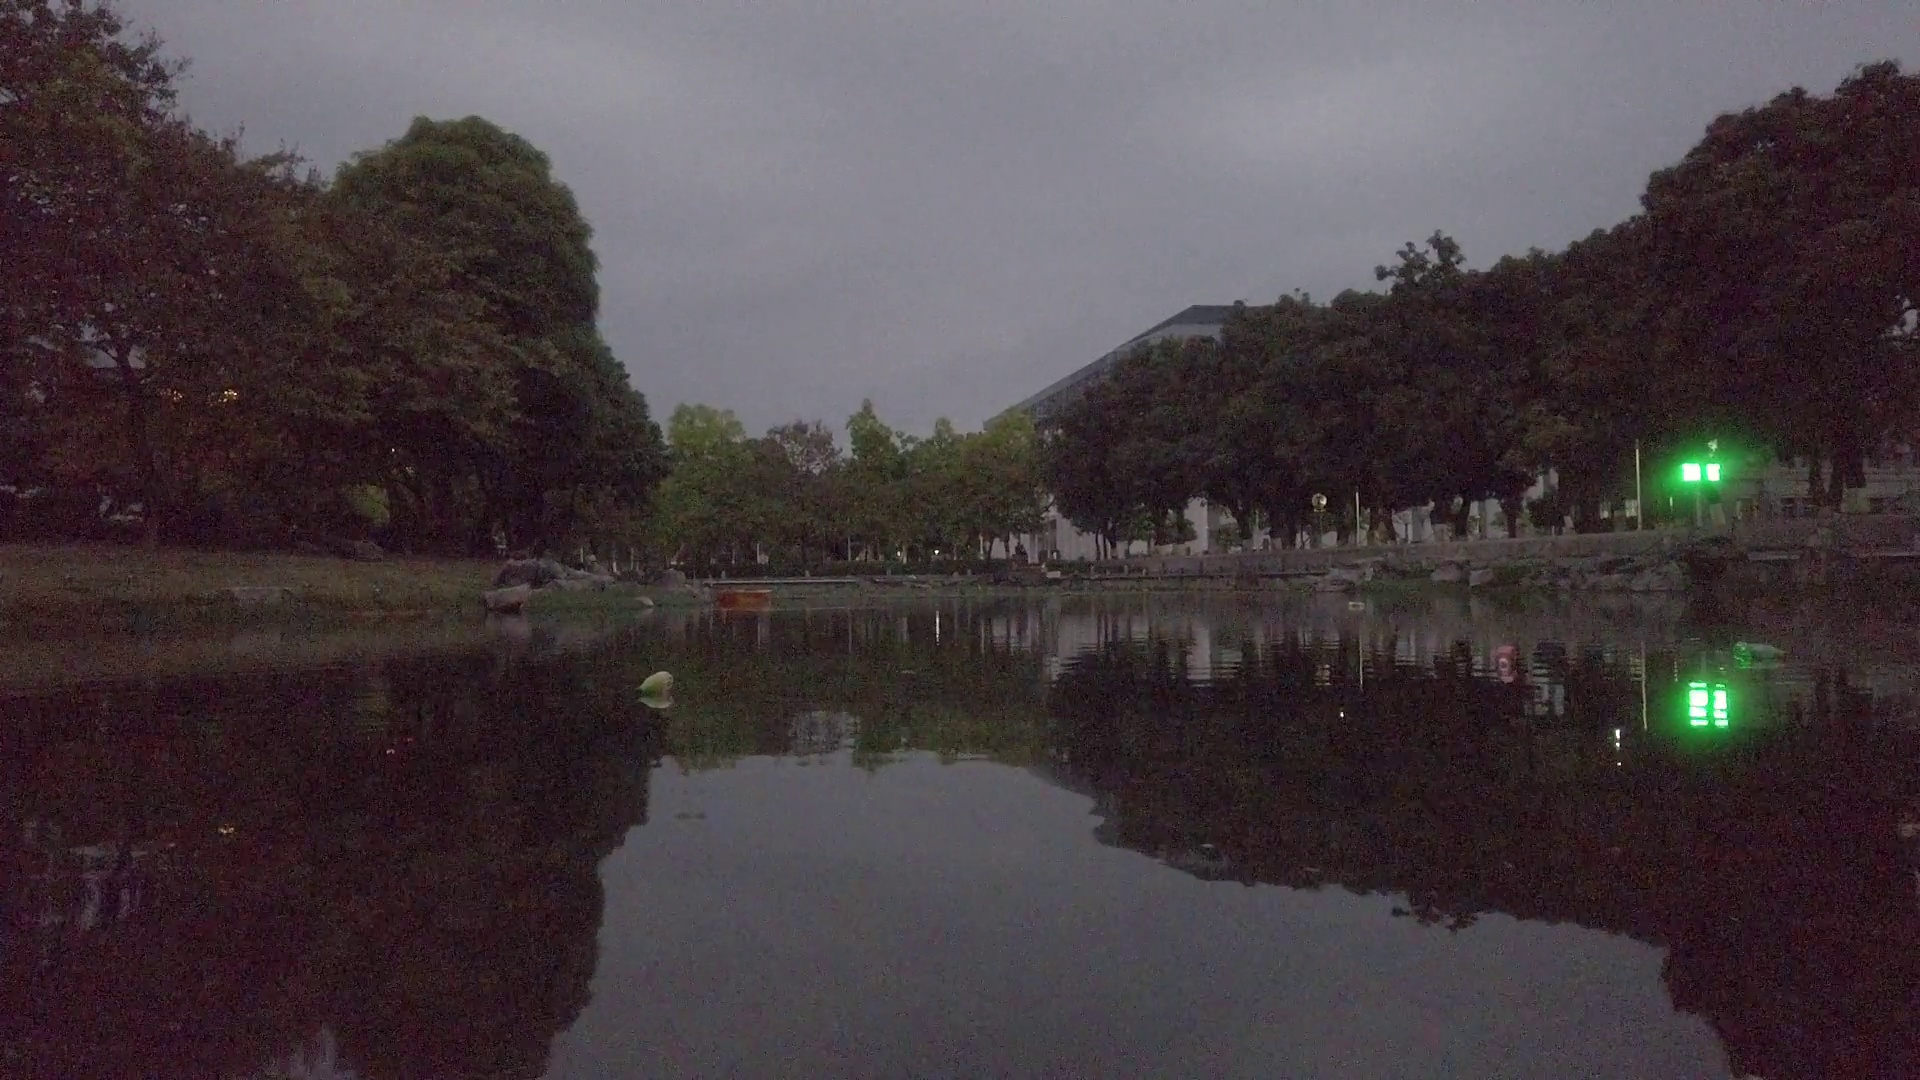bottle: (1734, 640, 1787, 659), (636, 670, 675, 694), (1495, 641, 1516, 673), (1349, 603, 1365, 608)
